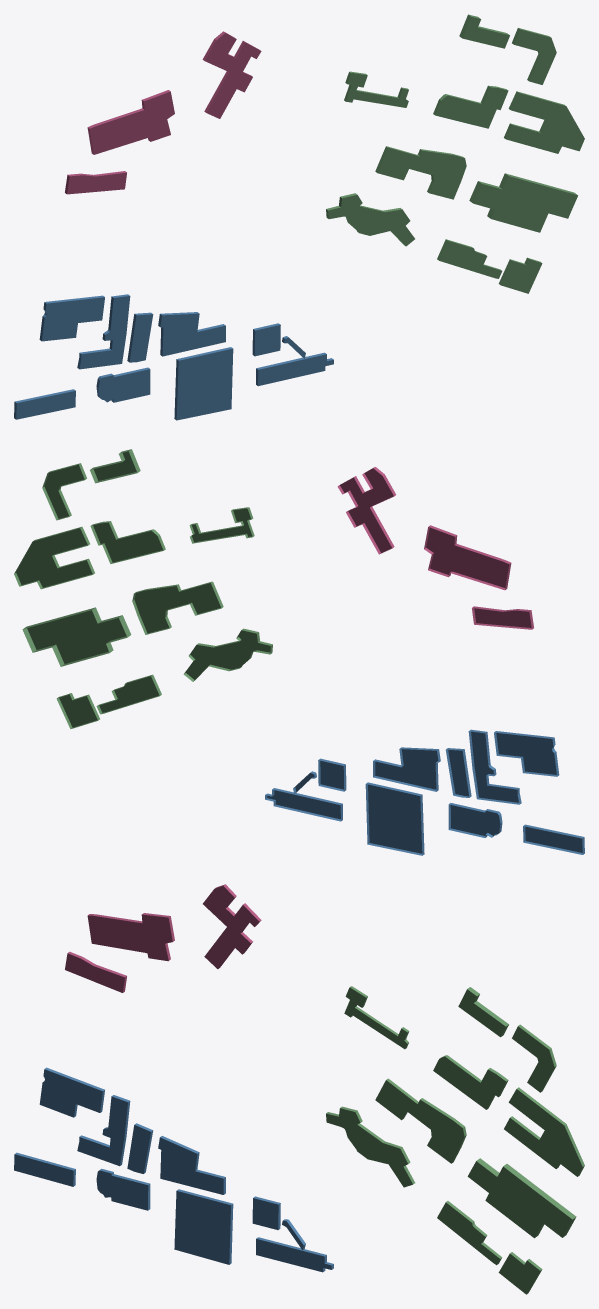
Rendered from buildings_k08.obj.
3 views of the same model, one above another, from view 1: azimuth 30°, elevation 25°; view 2: azimuth 150°, elevation 25°; view 3: azimuth 330°, elevation 25° (orthographic).
Visible parts, largest first — view 1: roof3, roof4, roof1, zone3, zone4, zone1; view 2: roof3, roof4, roof1, zone3, zone4, zone1; view 3: roof3, roof4, roof1, zone3, zone4, zone1.
Part boxes in pixels (<box>): roof3: <box>328,17,584,293</box>; roof4: <box>16,296,333,420</box>; roof1: <box>67,33,261,194</box>; zone3: <box>326,14,577,285</box>; zone4: <box>14,294,333,420</box>; zone1: <box>65,31,259,193</box>; roof3: <box>16,451,270,727</box>; roof4: <box>267,731,582,853</box>; roof1: <box>340,468,531,627</box>; zone3: <box>14,449,272,729</box>; zone4: <box>265,729,584,855</box>; zone1: <box>337,467,533,629</box>; roof3: <box>326,987,582,1294</box>; roof4: <box>14,1069,331,1272</box>; roof1: <box>65,886,259,992</box>; zone3: <box>326,986,584,1293</box>; zone4: <box>15,1067,333,1271</box>; zone1: <box>68,884,261,992</box>.
Bounding box in the file's own units: 640 × 406 × 7.7.
